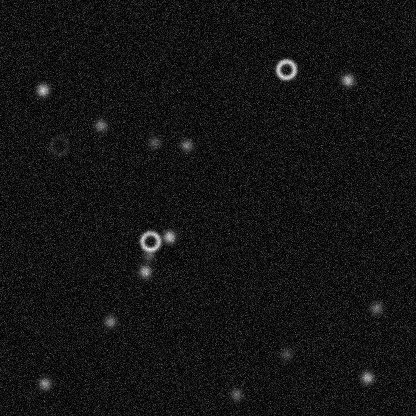Ring: (274, 57, 298, 81), (138, 229, 162, 253), (46, 133, 70, 157)
Spot: (228, 386, 244, 402), (178, 137, 194, 153), (146, 134, 162, 150), (36, 375, 52, 391), (368, 300, 384, 316), (137, 263, 153, 279), (92, 117, 108, 133), (140, 247, 156, 263), (101, 313, 117, 329), (339, 72, 355, 88), (34, 81, 50, 97), (161, 228, 177, 244), (278, 346, 294, 362), (359, 369, 375, 385)
